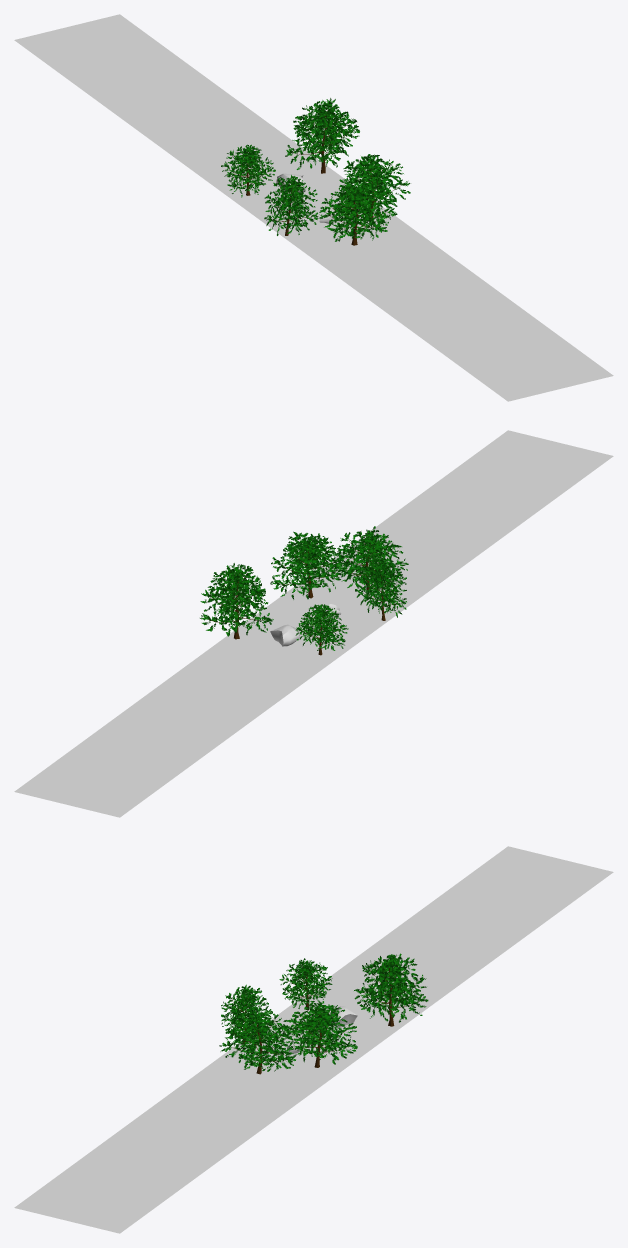
File: Basic 2.fbx
3 renders of one model, top to bottom at view 1: azimuth 30°, elevation 25°; view 2: azimuth 150°, elevation 25°; view 3: azimuth 330°, elevation 25°, orthographic.
Parts seen in each view (by area): view 1: Plane001, Foliage004, Foliage007, Foliage001, Foliage003, Foliage006; view 2: Plane001, Foliage004, Foliage001, Foliage007, Foliage003, Foliage006; view 3: Plane001, Foliage004, Foliage007, Foliage001, Foliage006, Foliage003.
Part boxes in pixels (box(x1,y1,x2,y2)): Plane001: box(14, 14, 613, 401); Foliage004: box(285, 98, 359, 173); Foliage007: box(319, 183, 397, 245); Foliage001: box(337, 154, 410, 218); Foliage003: box(264, 175, 318, 235); Foliage006: box(221, 144, 275, 197); Plane001: box(14, 430, 613, 817); Foliage004: box(200, 563, 273, 639); Foliage001: box(270, 531, 345, 599); Foliage007: box(333, 526, 408, 590); Foliage003: box(355, 558, 406, 620); Foliage006: box(295, 604, 348, 655); Plane001: box(14, 846, 613, 1233); Foliage004: box(354, 953, 428, 1026); Foliage007: box(219, 1011, 295, 1074); Foliage001: box(283, 1001, 357, 1067); Foliage006: box(279, 958, 332, 1010); Foliage003: box(221, 984, 272, 1046).
Size of the model in its own units: 1366 by 662 by 8000.
